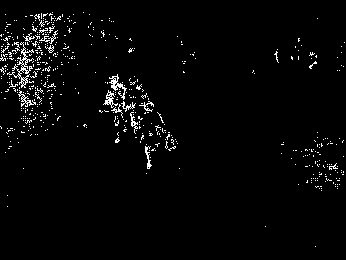person: (135, 99, 179, 171), (101, 74, 127, 145), (124, 73, 149, 138)
